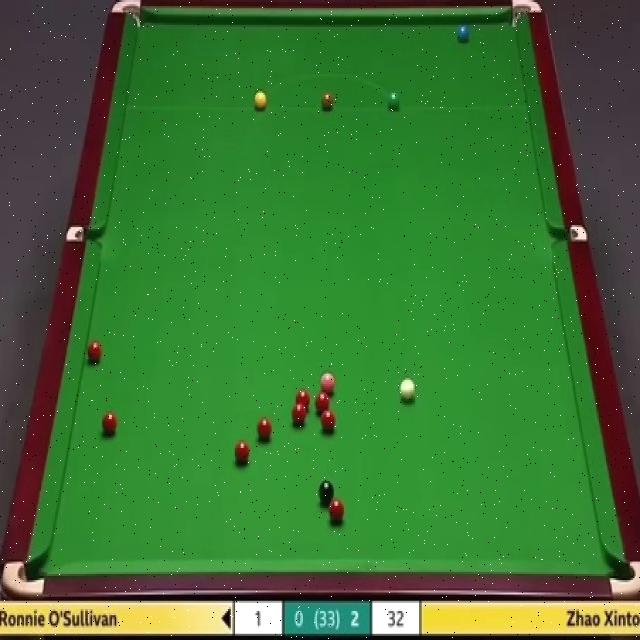black-ball: (317, 479, 335, 509)
blue-ball: (456, 21, 472, 46)
brown-ball: (320, 92, 334, 113)
green-ball: (387, 91, 401, 113)
pink-ball: (317, 370, 336, 396)
red-ball: (99, 408, 118, 438), (234, 441, 251, 469), (328, 499, 346, 524), (256, 416, 273, 441), (291, 403, 307, 428), (294, 389, 311, 411), (86, 340, 101, 364), (321, 409, 336, 432), (314, 392, 330, 412)
white-ball: (399, 378, 416, 403)
yellow-ball: (254, 90, 268, 112)
